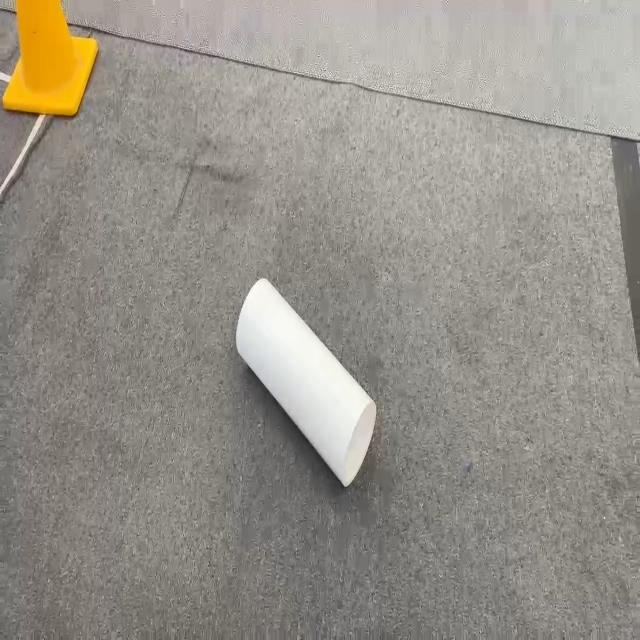coral: (235, 276, 377, 488)
